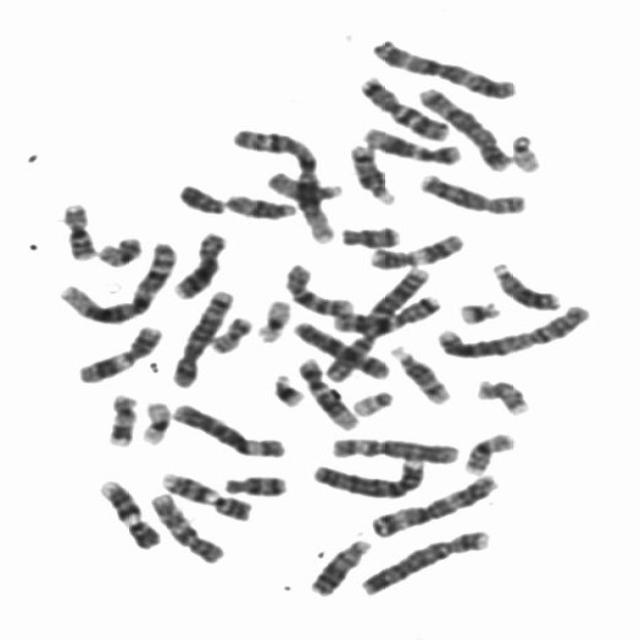A1: (227, 120, 341, 244), (52, 234, 182, 326)
A2: (320, 258, 436, 383), (429, 296, 597, 361)
A3: (366, 30, 523, 101), (366, 467, 504, 538)
B4: (355, 522, 496, 597), (306, 450, 433, 500)
B5: (412, 78, 517, 172), (167, 281, 240, 389)
C10: (144, 484, 230, 566), (280, 256, 358, 318)
C11: (72, 318, 169, 385), (364, 226, 470, 270)
C12: (293, 350, 363, 432), (357, 118, 468, 166)
C6: (167, 396, 293, 459), (326, 428, 464, 466)
C7: (355, 68, 456, 142), (327, 287, 446, 334)
C8: (413, 165, 534, 216), (169, 225, 233, 300)
C9: (156, 464, 257, 522), (94, 472, 166, 550)
D13: (304, 532, 376, 598), (486, 254, 567, 312)
D14: (385, 337, 457, 406), (344, 136, 401, 206)
D15: (261, 163, 347, 202), (221, 186, 302, 220)
E16: (458, 425, 522, 476), (56, 195, 102, 262)
E17: (471, 372, 536, 418), (101, 386, 143, 448)
E18: (218, 467, 293, 498), (335, 218, 406, 249)
F19: (251, 291, 296, 344), (135, 392, 177, 446)
F20: (205, 308, 258, 354), (91, 228, 148, 268)
G21: (268, 366, 311, 408), (454, 294, 507, 326)
G22: (505, 125, 547, 175), (346, 382, 400, 417)
X: (288, 314, 396, 380)
Y: (173, 176, 231, 215)
